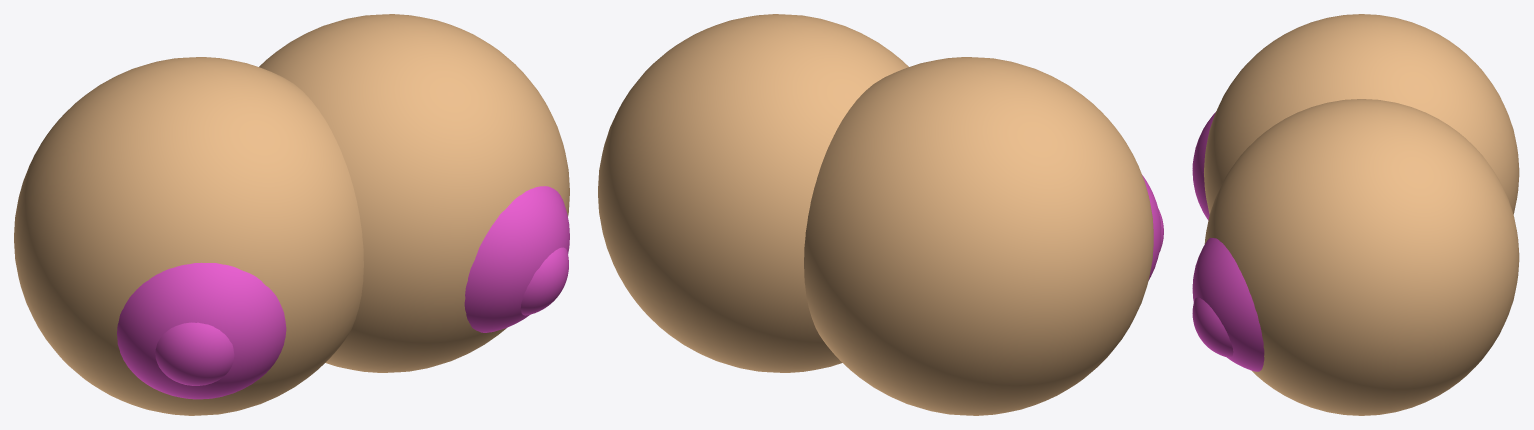
The model's file is boobs.glb.
3 views of the same model, side by side, from view 1: azimuth 30°, elevation 25°; view 2: azimuth 150°, elevation 25°; view 3: azimuth 270°, elevation 25° (orthographic). The views are drawn at different scales.
Visible parts, largest first — view 1: Object_7, Object_9, Object_13, Object_15, Object_19, Object_17; view 2: Object_7, Object_9, Object_13; view 3: Object_9, Object_7, Object_15, Object_17, Object_13.
Part boxes in pixels (x1,y1,x2,y2): Object_7: (14,57,363,415); Object_9: (259,14,569,372); Object_13: (117,262,286,399); Object_15: (464,186,569,332); Object_19: (155,322,234,385); Object_17: (520,247,568,315); Object_7: (804,57,1153,415); Object_9: (598,14,908,372); Object_13: (1142,175,1161,280); Object_9: (1204,99,1519,415); Object_7: (1204,14,1519,214); Object_15: (1192,238,1264,371); Object_17: (1192,297,1233,357); Object_13: (1192,112,1215,220).
Size of the model in its own units: 0.1156 by 0.0714 by 0.0731.
